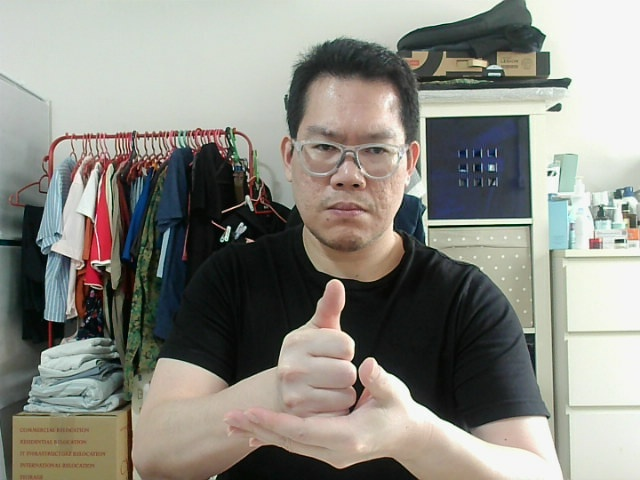help: (269, 288, 348, 422)
